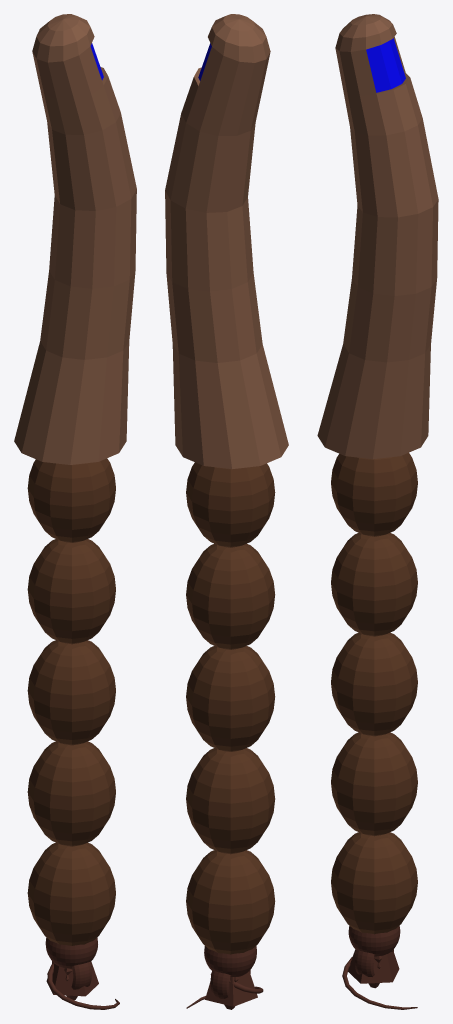
File: Wand 245.glb
3 views of the same model, side by side, from view 1: azimuth 30°, elevation 25°; view 2: azimuth 150°, elevation 25°; view 3: azimuth 330°, elevation 25° (orthographic). The views are drawn at different scales.
Parts seen in each view (by area): view 1: GeneratedWand, Pommel_4, Pommel_9, Pommel_10, Pommel_2; view 2: GeneratedWand, Pommel_4, Pommel_9, Pommel_2; view 3: GeneratedWand, Pommel_4, Pommel_9, Pommel_2, Pommel_10.
Boxes of the visible parts, bbox=[...] form: GeneratedWand: bbox=[14, 14, 136, 974]; Pommel_4: bbox=[45, 937, 97, 969]; Pommel_9: bbox=[46, 961, 98, 996]; Pommel_10: bbox=[47, 963, 119, 1009]; Pommel_2: bbox=[52, 961, 91, 989]; GeneratedWand: bbox=[165, 14, 288, 982]; Pommel_4: bbox=[204, 946, 256, 977]; Pommel_9: bbox=[205, 971, 257, 1006]; Pommel_2: bbox=[210, 970, 250, 998]; GeneratedWand: bbox=[317, 14, 438, 962]; Pommel_4: bbox=[348, 926, 400, 956]; Pommel_9: bbox=[348, 949, 399, 983]; Pommel_2: bbox=[354, 950, 393, 976]; Pommel_10: bbox=[342, 957, 417, 1009].
Size of the model in its own units: 0.0644 by 0.5565 by 0.0572.
